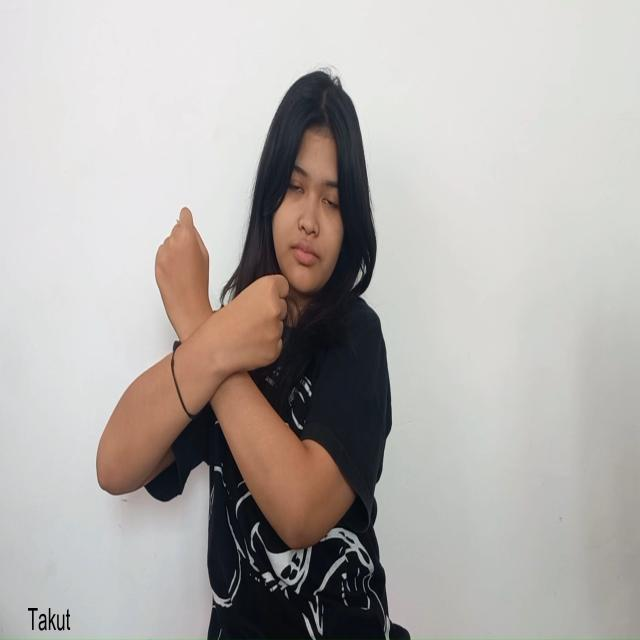Takut -BISINDO-: (152, 202, 291, 414)
